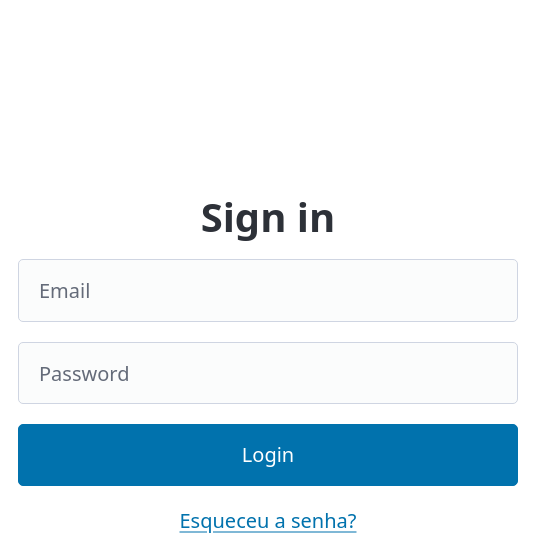
Test: Sistema Solar › Exibe toast ao errar o login
Type "errado@email.com" into the field named "email" at (268, 291), box [18,259,518,322]
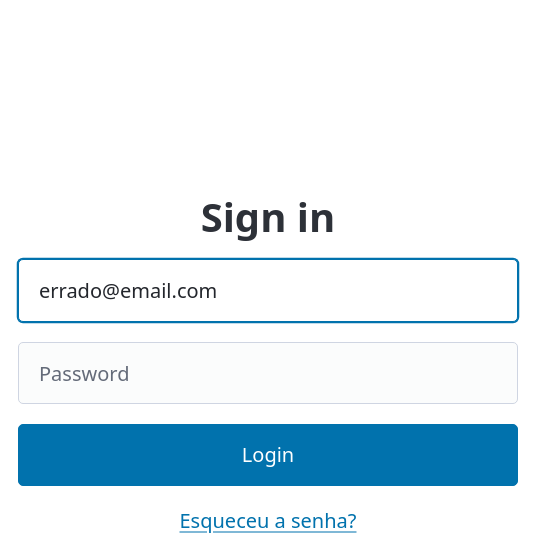
Type "senhaerrada" into the password field named "password" at (268, 374), box [18,342,518,405]
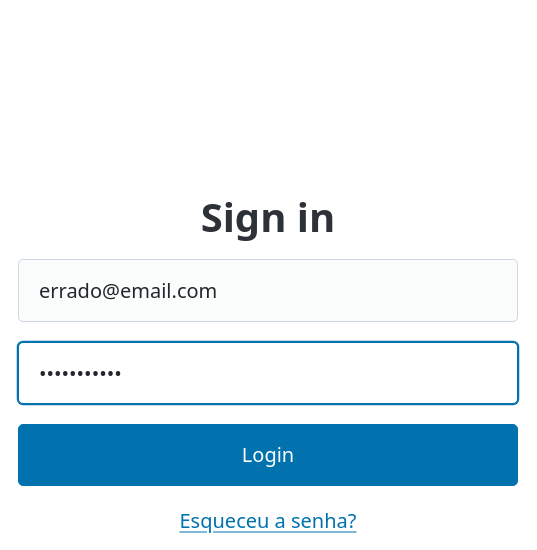
Click the submit button at (268, 455), box [18,424,518,486]
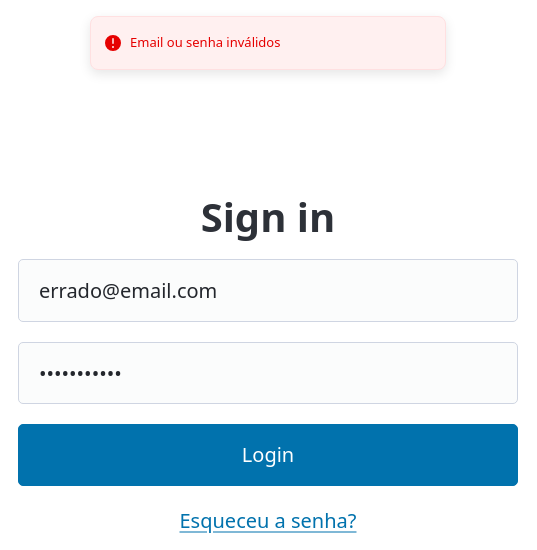
Result: the text "Email ou senha inválidos" is shown at [130,33,280,52]
